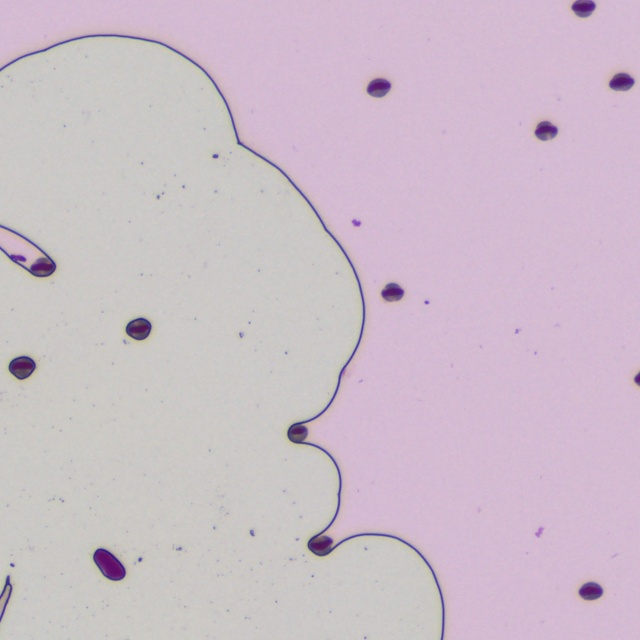intermediate: (9, 356, 35, 379), (126, 317, 151, 339), (29, 257, 55, 276), (367, 78, 390, 97), (308, 536, 331, 554), (535, 121, 557, 139), (579, 582, 602, 599), (609, 73, 633, 89), (381, 283, 403, 300), (572, 0, 595, 16), (288, 424, 307, 442)
viable: (93, 548, 125, 580)
